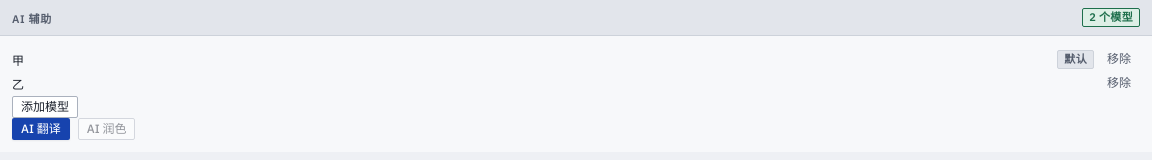
Test: AiPanel › removes a profile through ai.profile.remove
Expected: the text "甲" is shown, [12,50,24,68]
Click the button "移除" next to "默认": (1119, 59) [1098,48,1140,70]
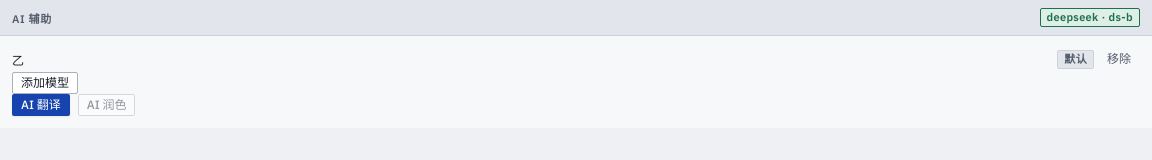
Expected: the text "乙" is shown, [12,50,24,68]
Expected: the text "甲" is gone
